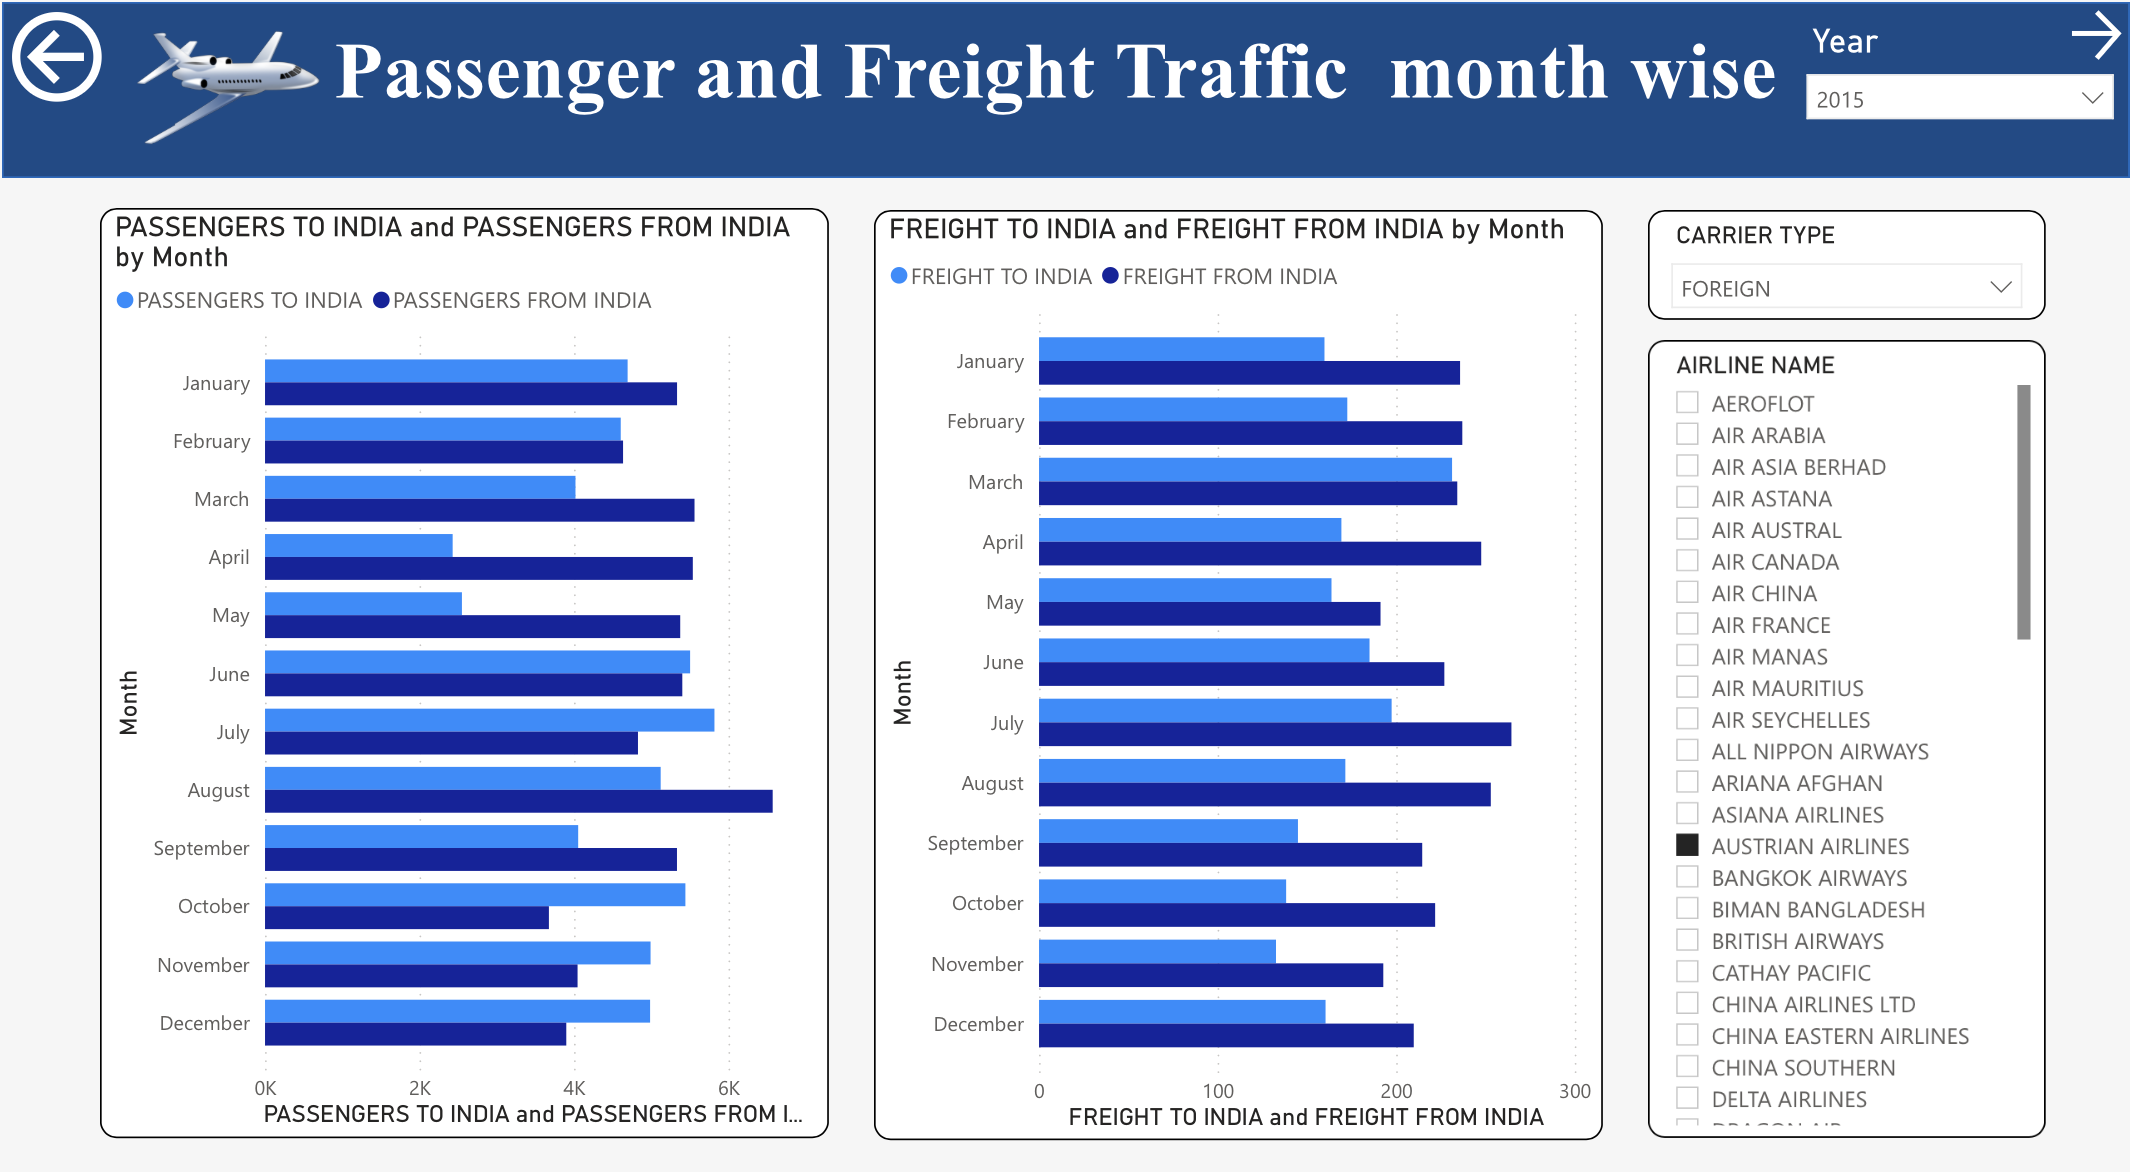

The page's visual inventory and layout, read from the dashboard file:
{"tool":"powerbi","page":{"name":"Comparison of Passenger and Freight Traffic","canvas":[1280,720],"ordinal":1},"visuals":[{"type":"shape","box":[1.4,10,1278.6,105.8],"z":0},{"type":"textbox","box":[196.4,17.9,1016.3,96.1],"z":1000},{"type":"clusteredBarChart","fields":{"Category":["Airlinewise Monthly International Air Traffic.Date.Variation.Date Hierarchy.Month"],"Y":["Sum(Airlinewise Monthly International Air Traffic.FREIGHT TO INDIA)","Sum(Airlinewise Monthly International Air Traffic.FREIGHT FROM INDIA)"]},"box":[524.6,134.6,438.1,559],"z":2000},{"type":"slicer","fields":{"Values":["Airlinewise Monthly International Air Traffic.Date.Variation.Date Hierarchy.Year"]},"box":[1075.4,17.9,204.6,104.4],"z":3000},{"type":"slicer","fields":{"Values":["Airlinewise Monthly International Air Traffic.AIRLINE NAME"]},"box":[990.2,212.9,239,479.3],"z":4000},{"type":"slicer","fields":{"Values":["Carrier type.CARRIER TYPE"]},"box":[990.2,134.6,239,65.9],"z":5000},{"type":"clusteredBarChart","fields":{"Category":["Airlinewise Monthly International Air Traffic.Date.Variation.Date Hierarchy.Month"],"Y":["Sum(Airlinewise Monthly International Air Traffic.PASSENGERS TO INDIA)","Sum(Airlinewise Monthly International Air Traffic.PASSENGERS FROM INDIA)"]},"box":[60.4,133.2,438.1,559],"z":6000},{"type":"actionButton","box":[1.4,9.6,145.6,65.9],"z":7000},{"type":"image","box":[49.4,0,175.8,120.9],"z":8000},{"type":"actionButton","box":[1238.6,9.6,41,39.8],"z":9000}]}

Visuals, with their boxes in screenshot pixels (x1, y1, x2, y2), scaled from the page's 1280x720 canvas onto the 2130x1172 screenshot:
shape: <region>2, 16, 2129, 188</region>
textbox: <region>327, 29, 2018, 186</region>
clusteredBarChart - Airlinewise Monthly International Air Traffic.Date.Variation.Date Hierarchy.Month x Sum(Airlinewise Monthly International Air Traffic.FREIGHT TO INDIA): <region>873, 219, 1602, 1129</region>
slicer - Airlinewise Monthly International Air Traffic.Date.Variation.Date Hierarchy.Year: <region>1790, 29, 2129, 199</region>
slicer - Airlinewise Monthly International Air Traffic.AIRLINE NAME: <region>1648, 347, 2045, 1127</region>
slicer - Carrier type.CARRIER TYPE: <region>1648, 219, 2045, 326</region>
clusteredBarChart - Airlinewise Monthly International Air Traffic.Date.Variation.Date Hierarchy.Month x Sum(Airlinewise Monthly International Air Traffic.PASSENGERS TO INDIA): <region>101, 217, 830, 1127</region>
actionButton: <region>2, 16, 245, 123</region>
image: <region>82, 0, 375, 197</region>
actionButton: <region>2061, 16, 2129, 80</region>
